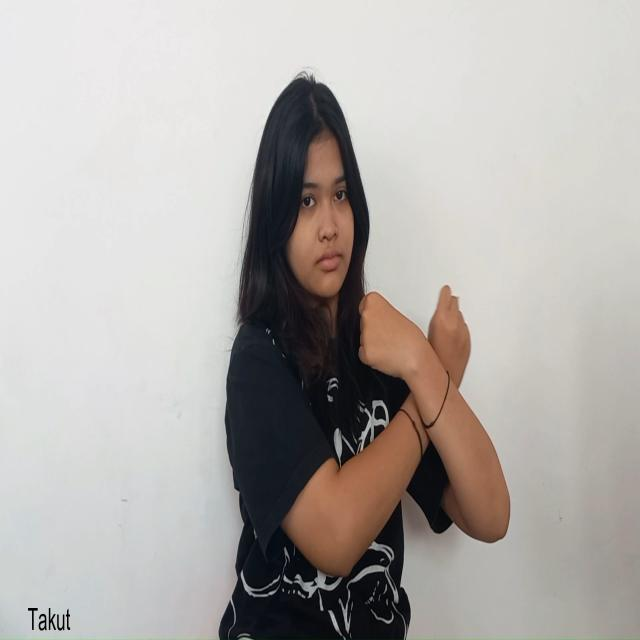Takut -BISINDO-: (358, 282, 472, 459)
